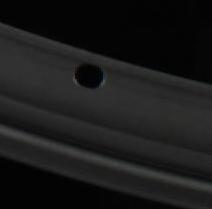holes: (73, 61, 107, 90)
